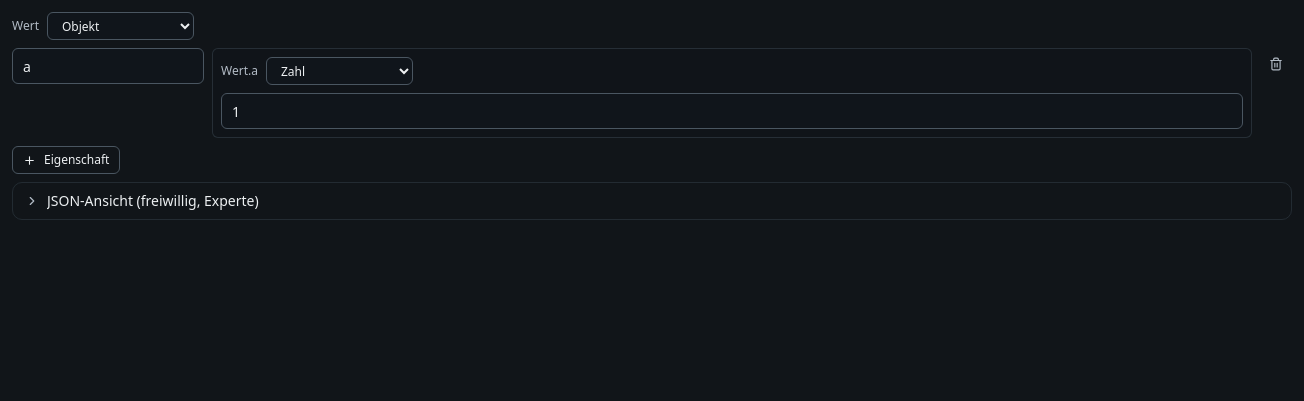
ValueEditor › the JSON view is optional, shows the same value and never takes over on invalid text
Step 1. Click the button "JSON-Ansicht (freiwillig, Experte)" → (142, 200), box [25,191,259,210]
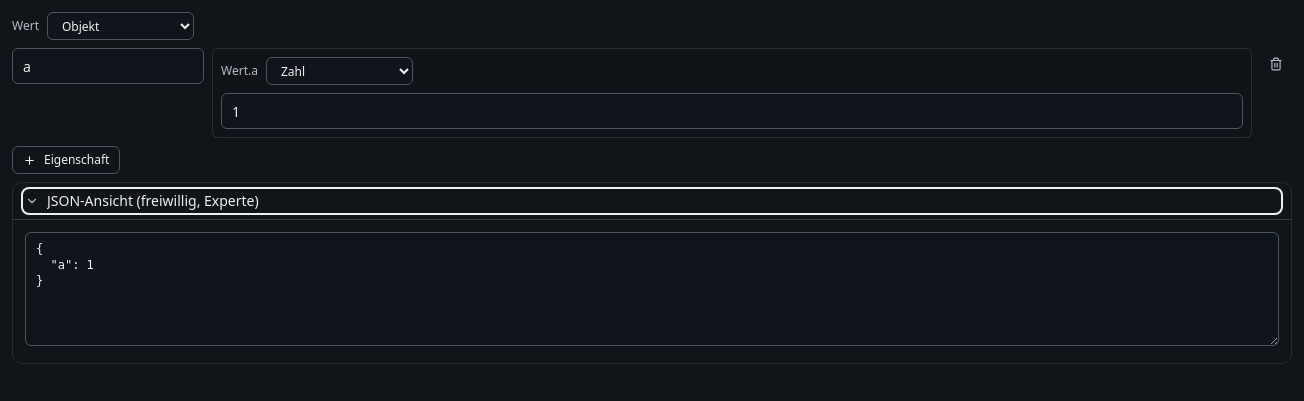
Step 2. Click the text box named "Wert: JSON" → (652, 289), box [25,232,1279,346]
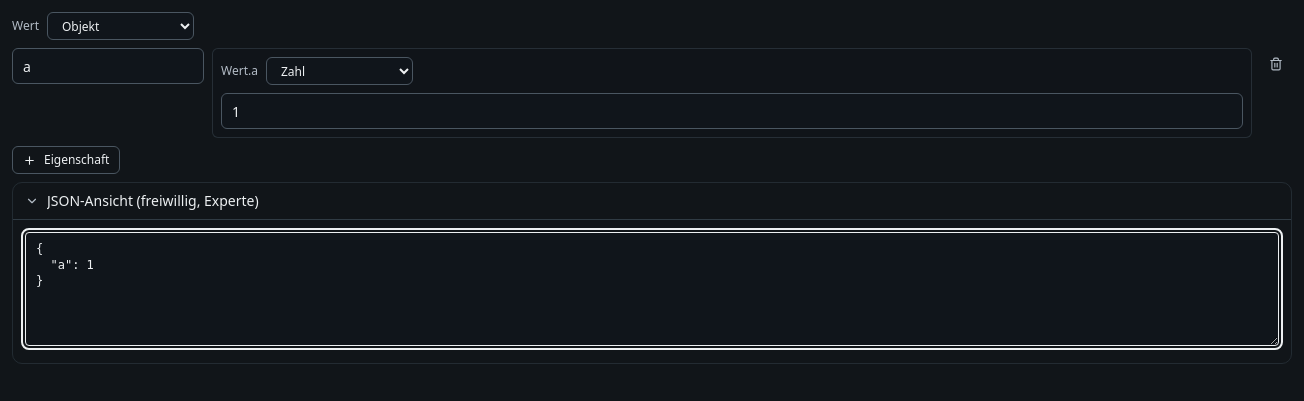
Step 3. Type keys "{kaputt"
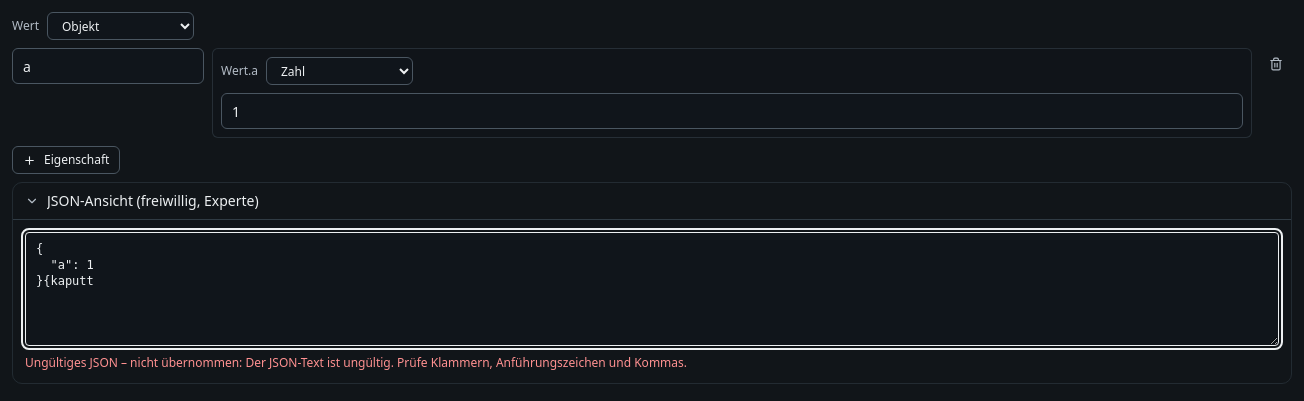
Now the text "Ungültiges JSON" is shown, box [25,354,245,371]
